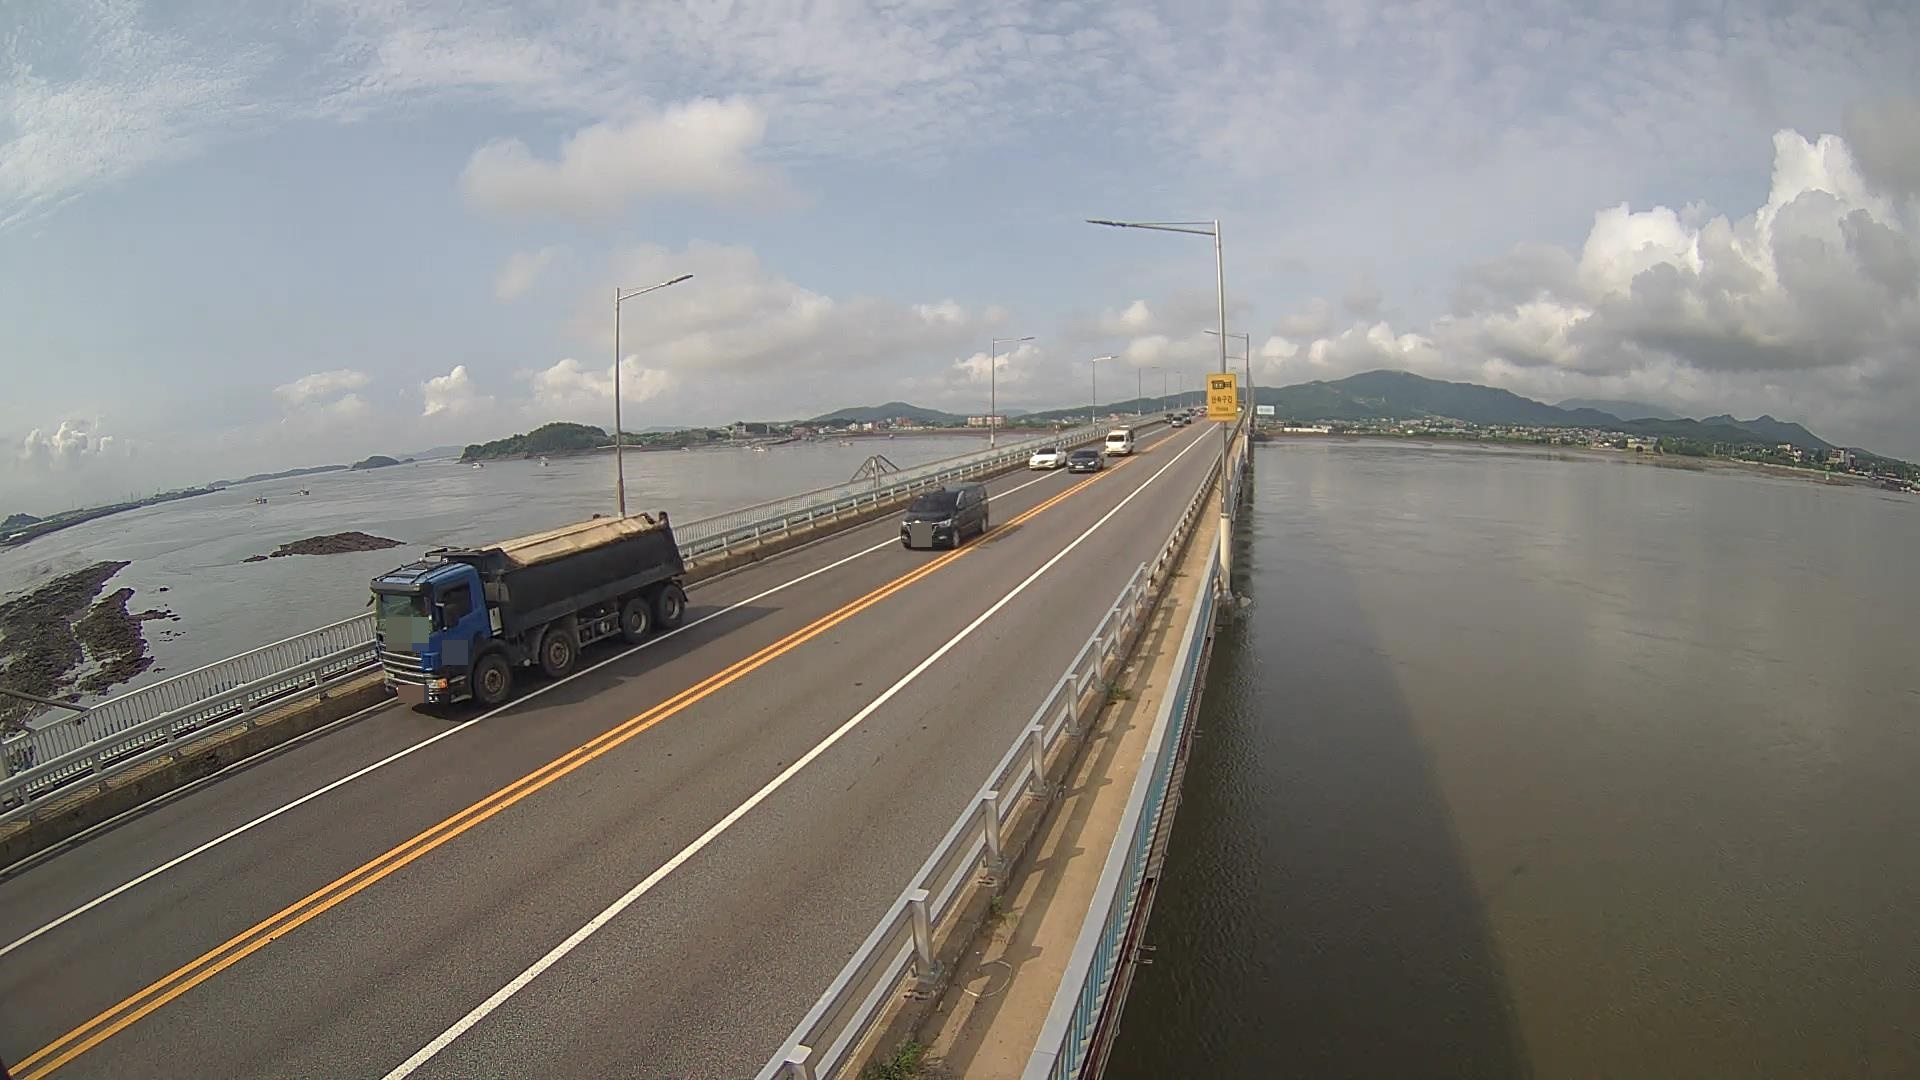정상차량: (367, 512, 691, 708)
